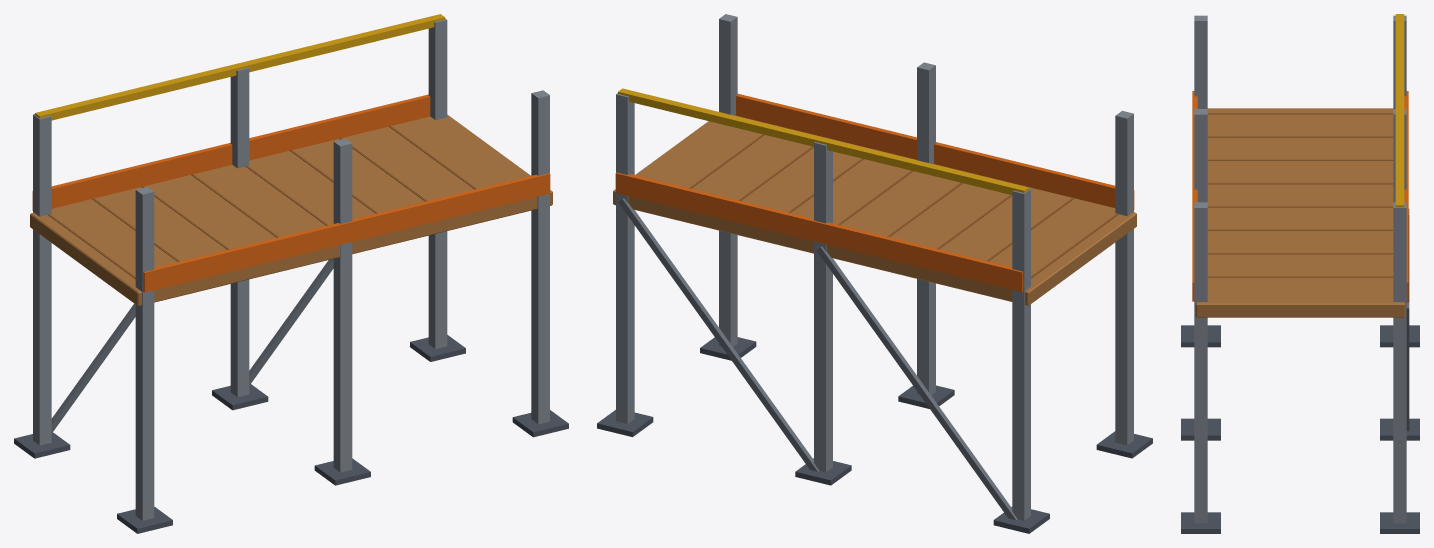
The model's file is scaffold2.glb.
3 renders of one model, left to right at view 1: azimuth 30°, elevation 25°; view 2: azimuth 150°, elevation 25°; view 3: azimuth 270°, elevation 25°, orthographic. The views are drawn at different scales.
Parts seen in each view (by area): view 1: scaffold2; view 2: scaffold2; view 3: scaffold2.
Boxes of the visible parts, <box> form: scaffold2: <box>14,14,568,533</box>; scaffold2: <box>597,14,1152,533</box>; scaffold2: <box>1181,14,1419,533</box>.
Bounding box in the file's own units: 4.36 × 3.24 × 2.16.
